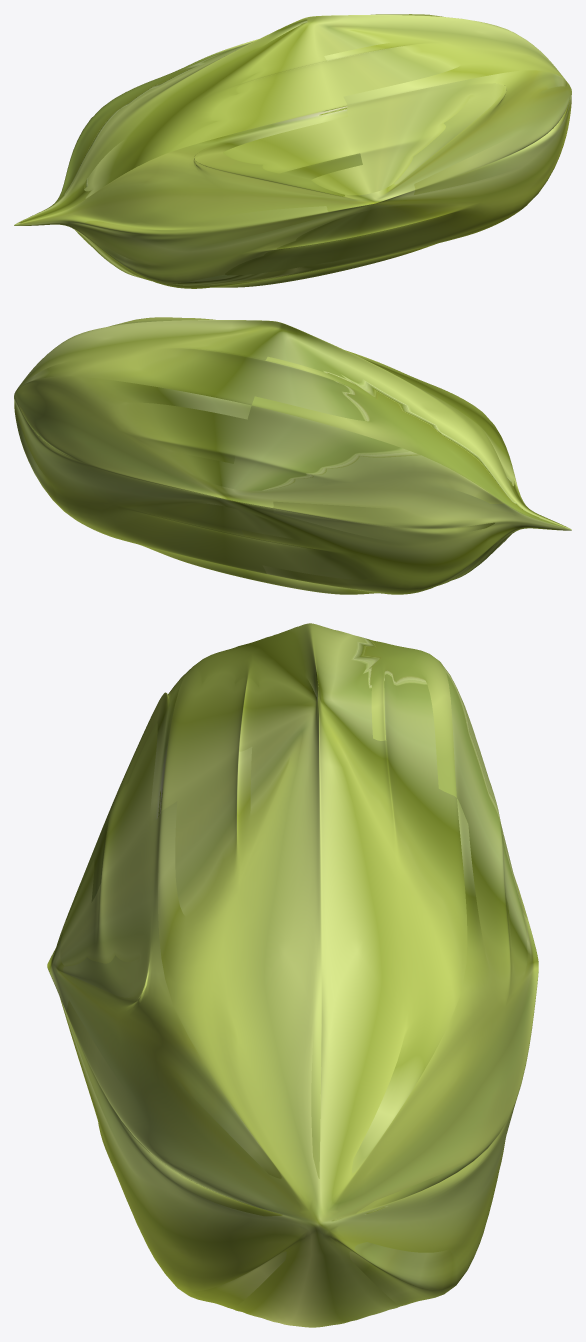
Rendered from toothgreenkinomi.glb.
3 views of the same model, one above another, from view 1: azimuth 30°, elevation 25°; view 2: azimuth 150°, elevation 25°; view 3: azimuth 270°, elevation 25° (orthographic). The views are drawn at different scales.
Visible parts, largest first — view 1: Cube; view 2: Cube; view 3: Cube.
Part boxes in pixels (bbox=[...]): Cube: bbox=[14, 14, 571, 288]; Cube: bbox=[14, 317, 571, 594]; Cube: bbox=[47, 623, 538, 1327].
Bounding box in the file's own units: 9.52 × 4.16 × 3.64.
Materials: 1 (1 with a texture image).
